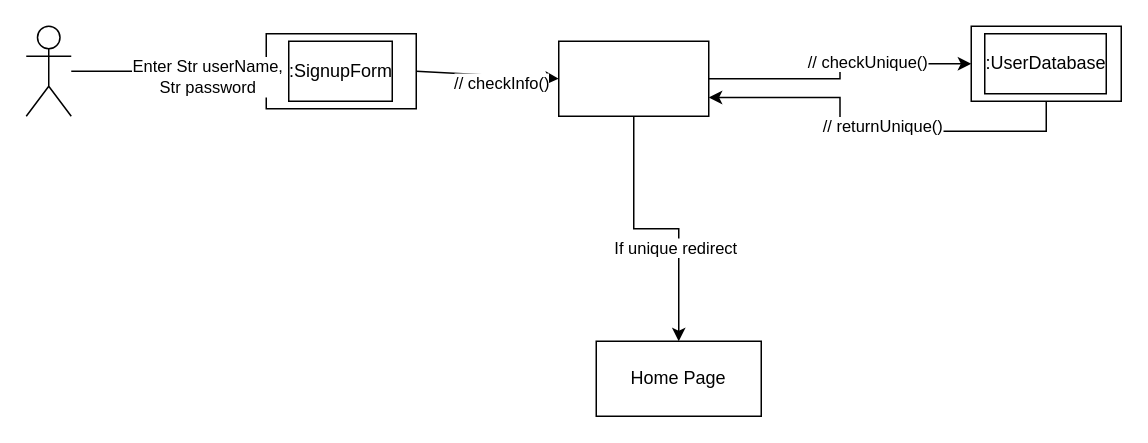
The diagram is 1148 pixels wide and 443 high, and some of its shapes have lost their labels. The shapes that lost their labels are listed below. From the top down, each one's centre as x and y in pixels, then its label:
point (48, 70): User
point (633, 78): :SignupController
